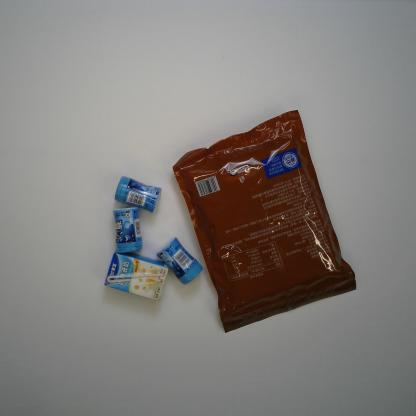Dried Food: (172, 110, 357, 333)
Gum: (156, 236, 204, 285), (114, 176, 162, 214), (113, 206, 143, 254)
Milk: (104, 249, 169, 302)
